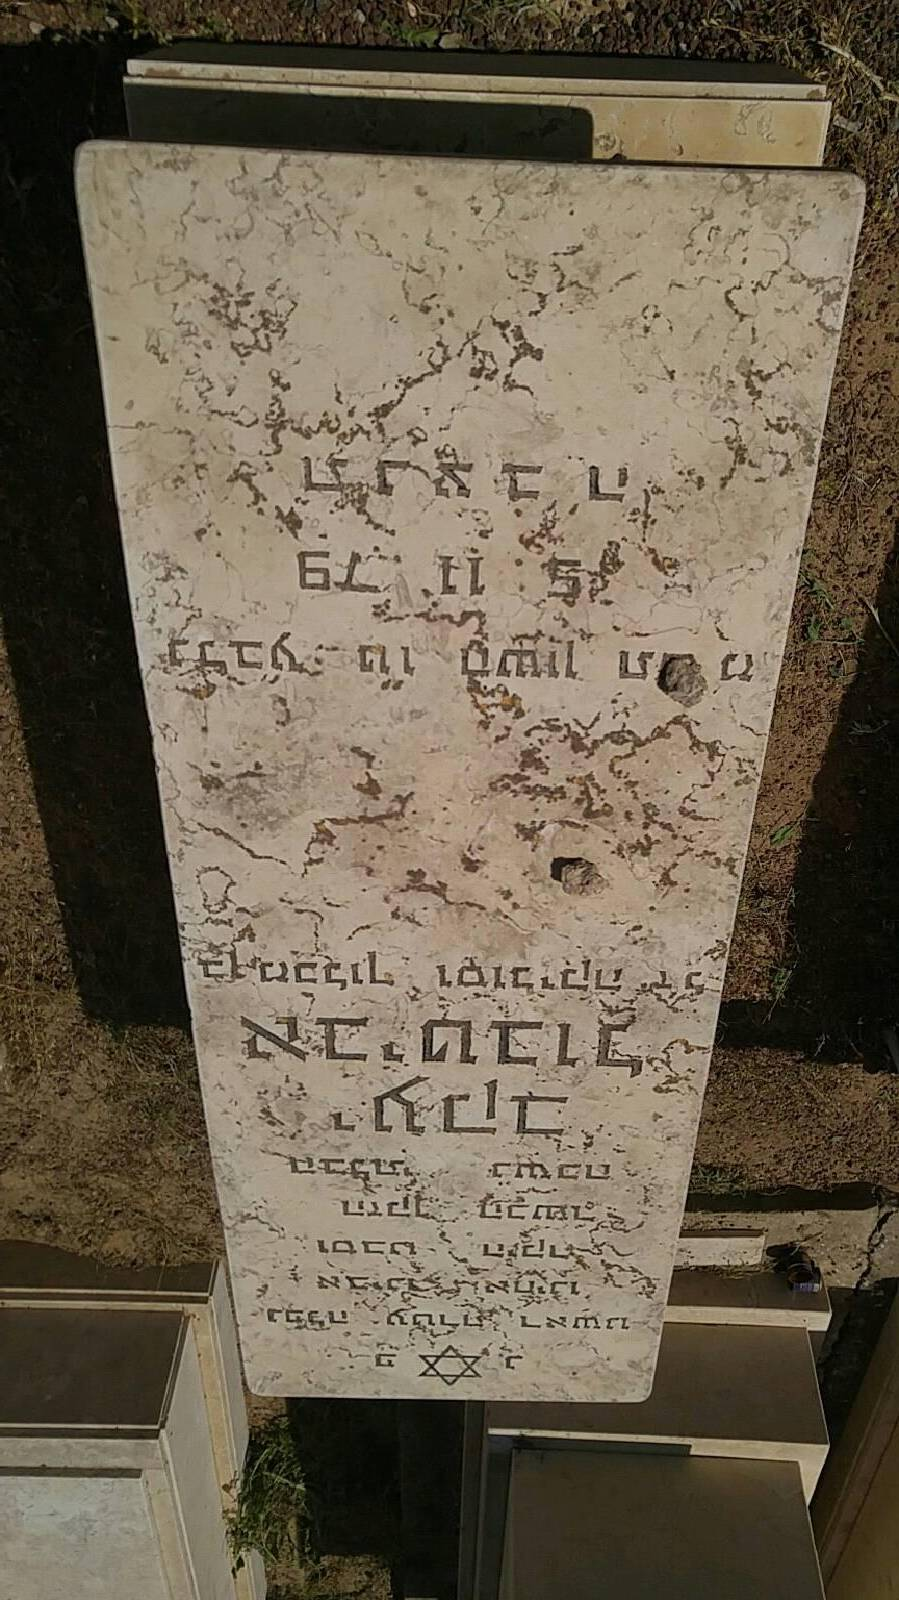vault: (36, 191, 829, 1582)
